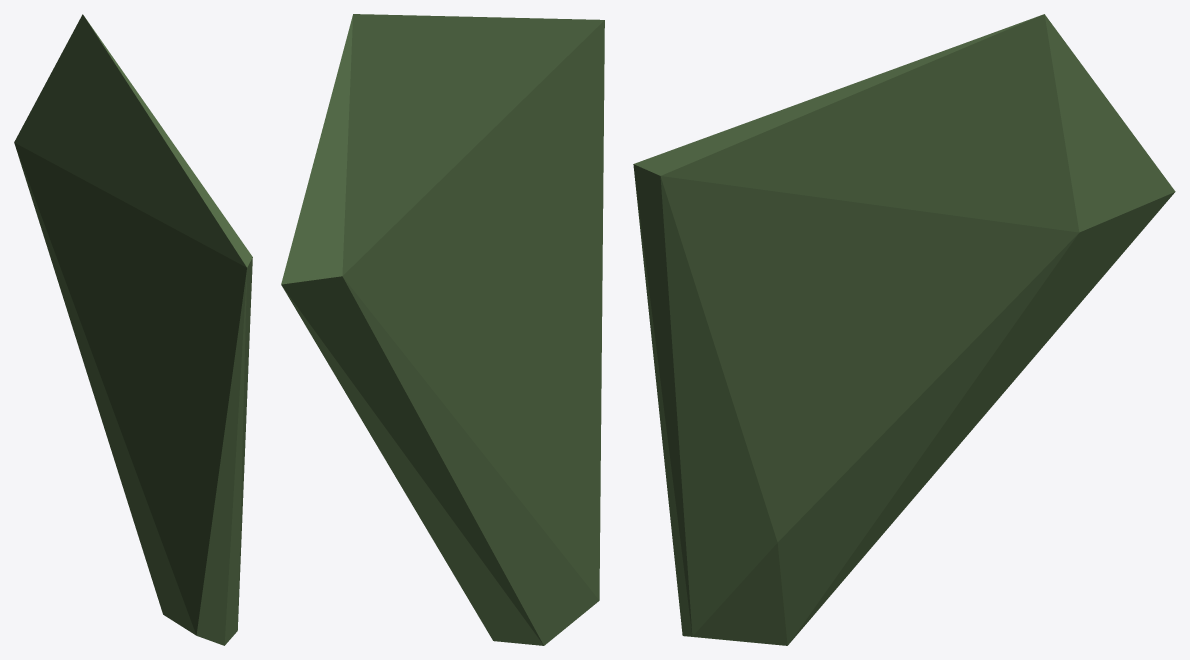
File: Cactus_5.lod4.glb
3 renders of one model, left to right at view 1: azimuth 30°, elevation 25°; view 2: azimuth 150°, elevation 25°; view 3: azimuth 270°, elevation 25°, orthographic. The views are drawn at different scales.
Visible parts, largest first — view 1: Cactus_5; view 2: Cactus_5; view 3: Cactus_5.
Part boxes in pixels (x1,y1,x2,y2): Cactus_5: (14,14,252,645); Cactus_5: (281,14,604,645); Cactus_5: (633,14,1175,645).
Size of the model in its own units: 0.1029 by 0.8779 by 0.6879.
